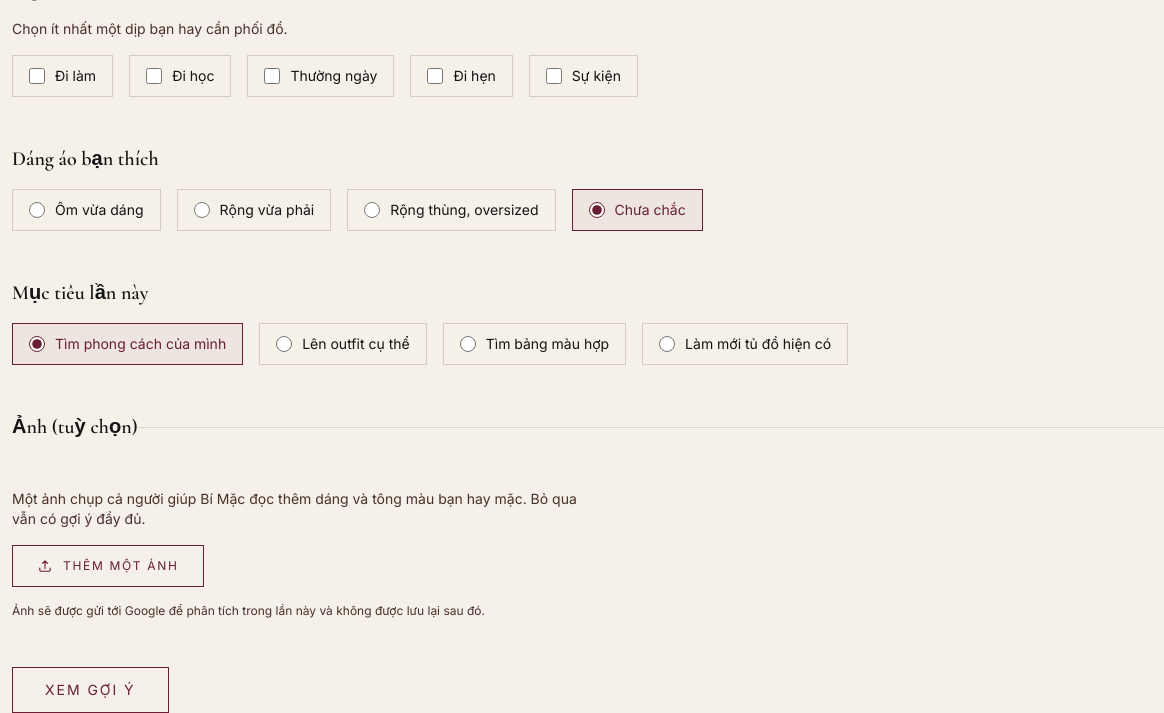
Scenario: Questionnaire › không gửi khi chưa chọn dịp mặc nào
The width and height of the screenshot is (1164, 713).
(page scrolled)
Step 1. Click the button "Xem gợi ý" → point(90, 690), box x1=12 y1=667 x2=168 y2=712
(page scrolled)
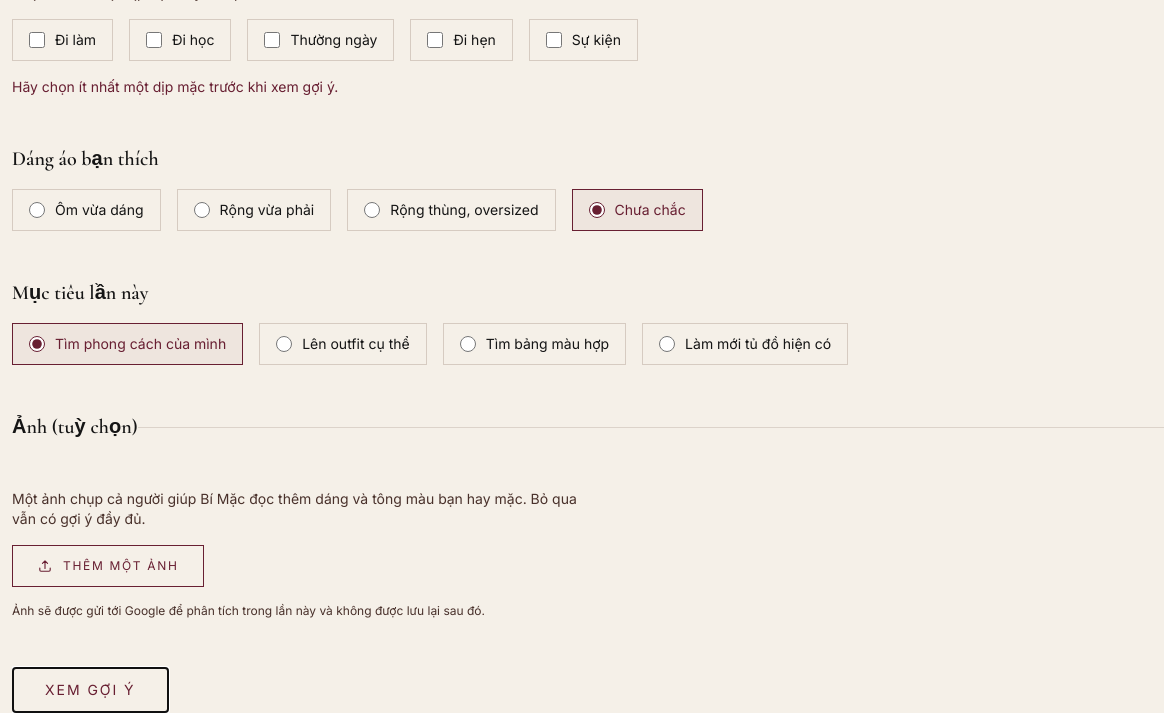
Check: the message shows "dịp mặc", box x1=12 y1=78 x2=338 y2=95
